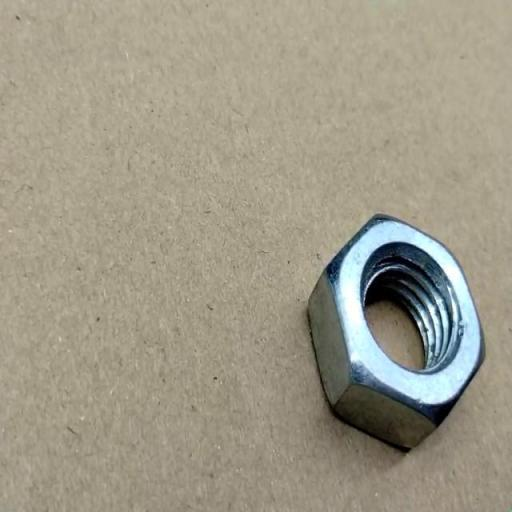Nut: (306, 213, 487, 454)
